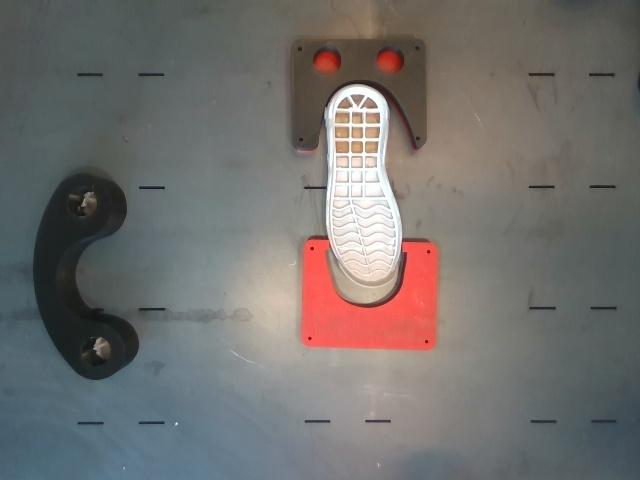shoes: (329, 87, 400, 288)
